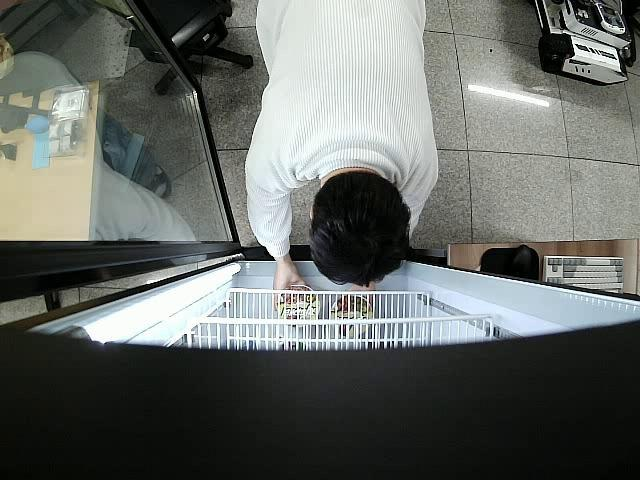03_chapagetti_L: (332, 295, 375, 338), (278, 286, 320, 328)
